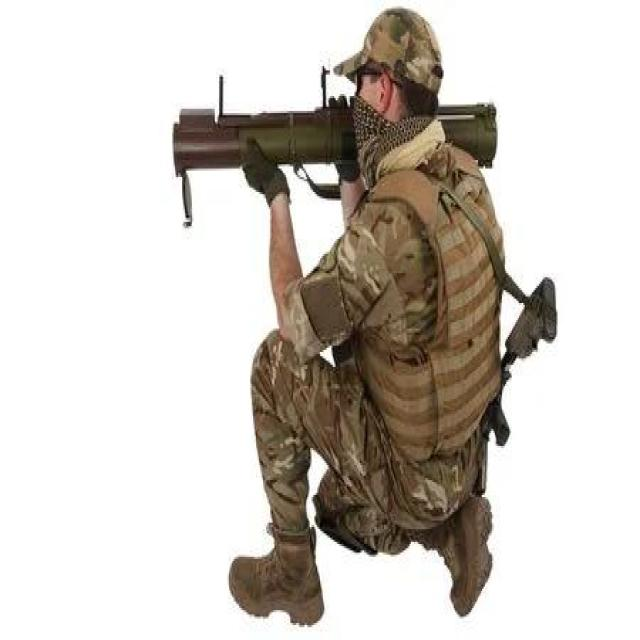bazooka: (169, 57, 501, 238)
